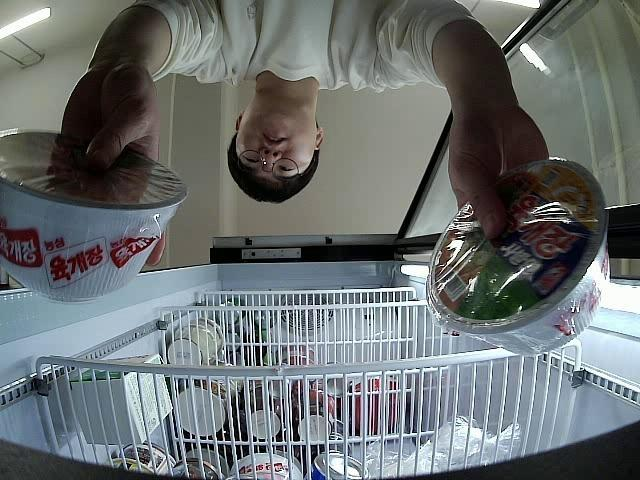09_yukGaeJang: (425, 158, 611, 356), (0, 126, 191, 302)
